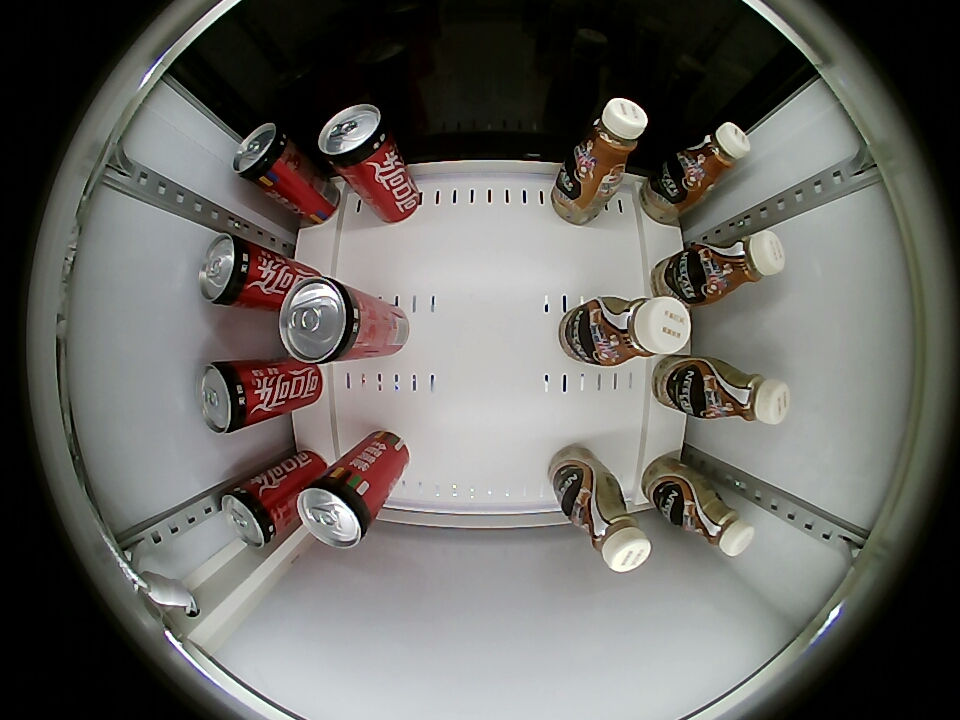kafei: (562, 474, 652, 573), (565, 98, 649, 186), (588, 297, 691, 367), (685, 231, 785, 303), (674, 478, 755, 557), (668, 122, 751, 198), (696, 358, 790, 425)
lingdukele: (278, 276, 368, 365), (296, 472, 378, 549), (318, 104, 395, 171), (199, 233, 263, 306), (198, 359, 259, 435), (232, 122, 299, 190), (222, 480, 284, 548)
